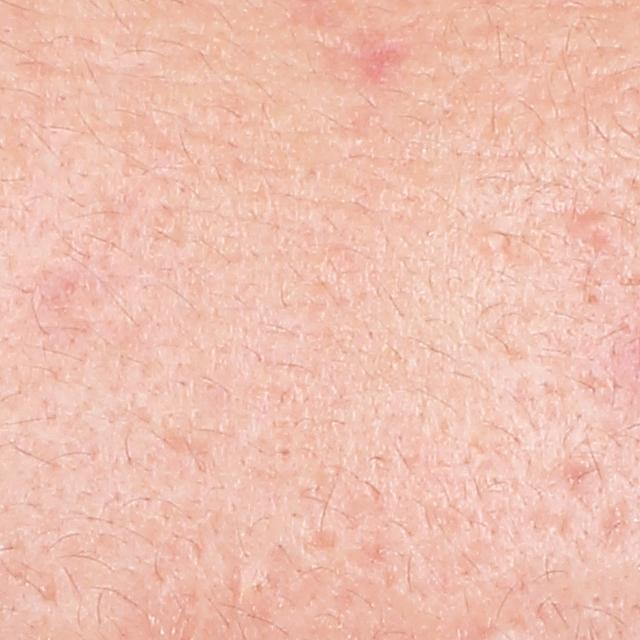atrophic_scar: (314, 34, 413, 91), (553, 205, 619, 263), (155, 413, 212, 476), (305, 528, 341, 552)
comedo: (477, 227, 509, 258)
